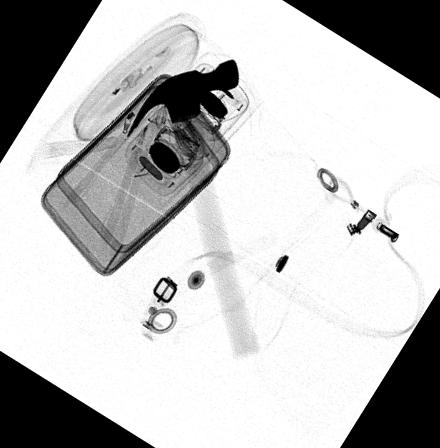Hammer: (125, 57, 261, 359)
